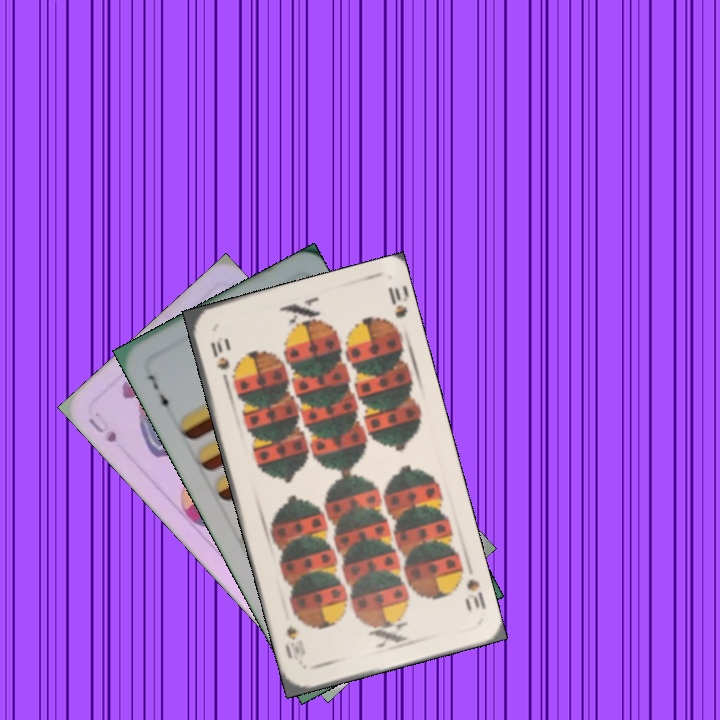E7: (143, 370, 172, 416)
S10: (206, 333, 232, 387), (461, 575, 489, 614)
SU: (84, 413, 119, 446)
